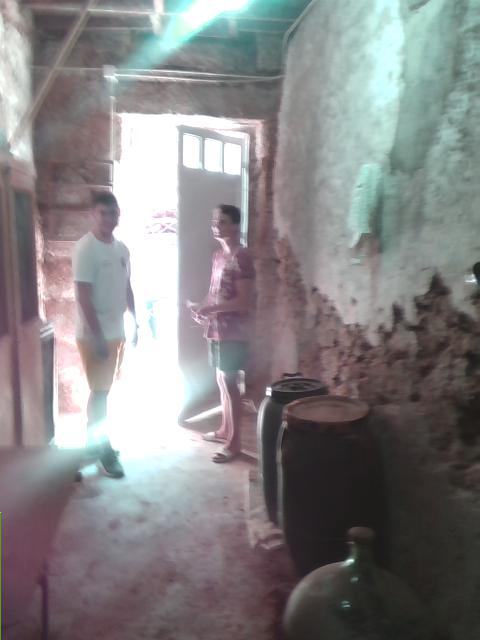semi_door: (118, 118, 254, 398)
